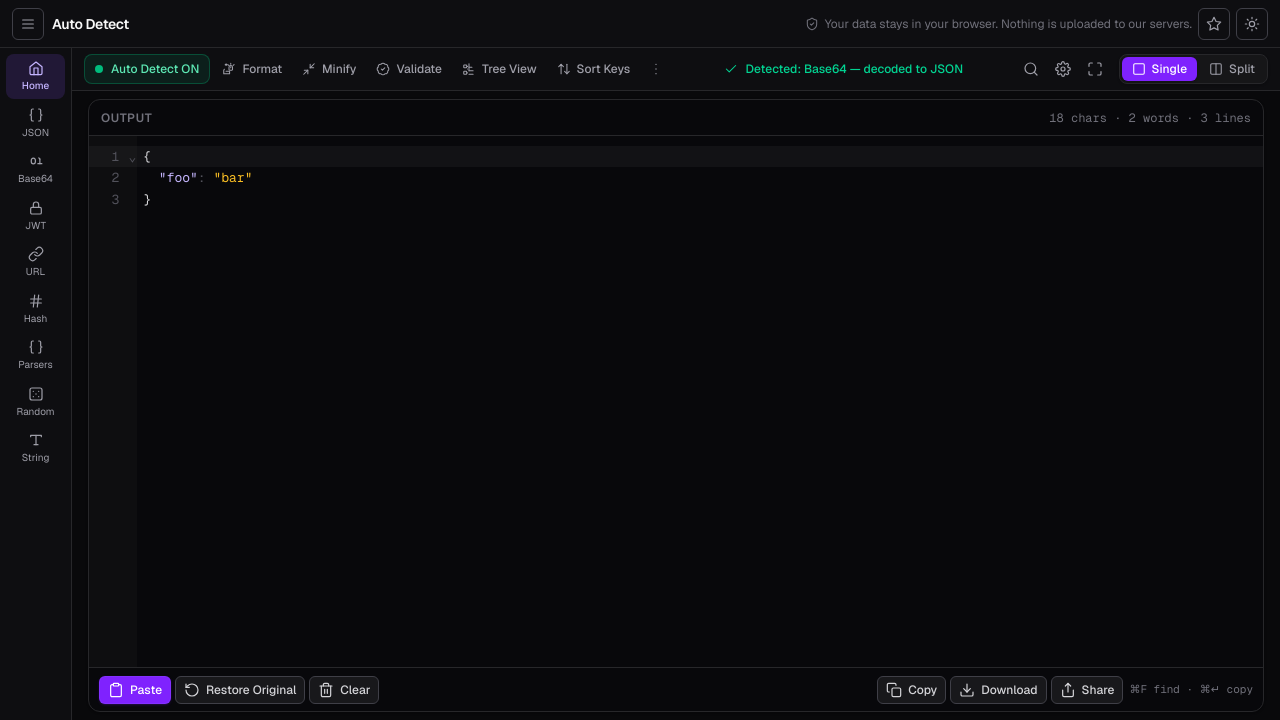
Test: Workspace — split view › renders input and output panes and applies transforms
Step 1. Click the button "Split" → (1232, 69), box [1199,57,1265,81]
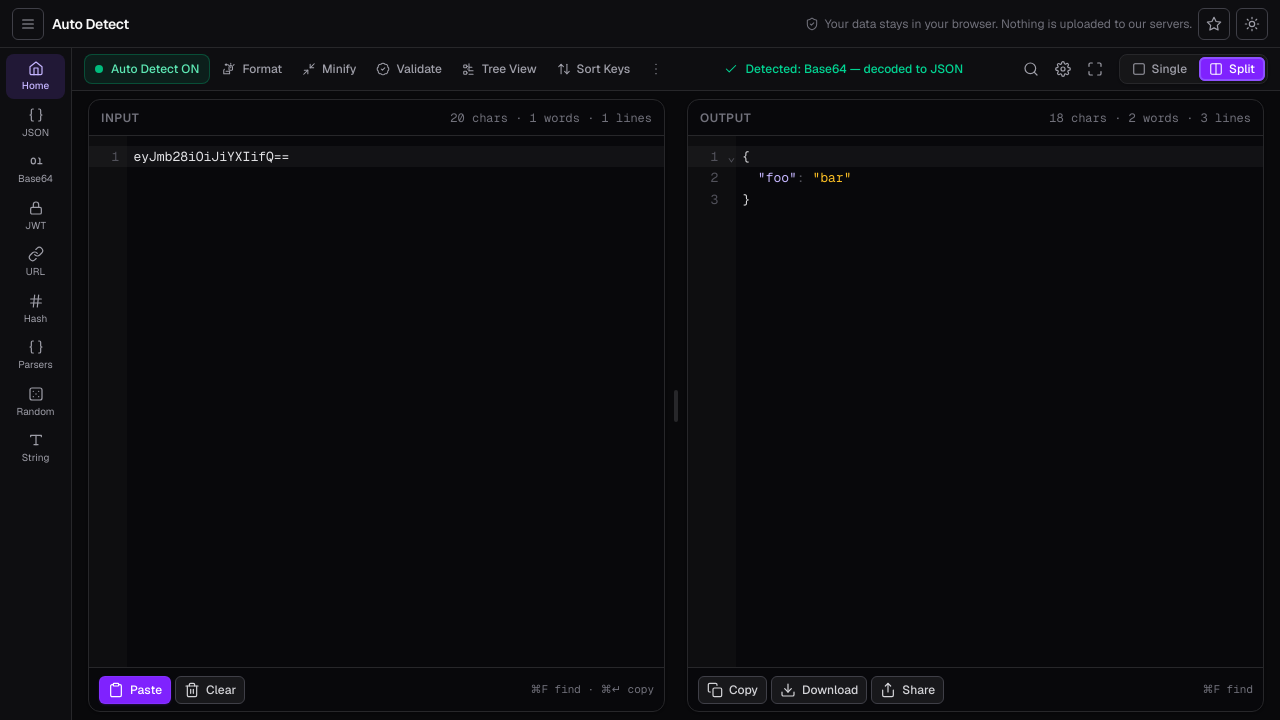
Now the text box labelled "eyJmb28iOiJiYXIifQ==" is shown, box [127,146,664,167]
